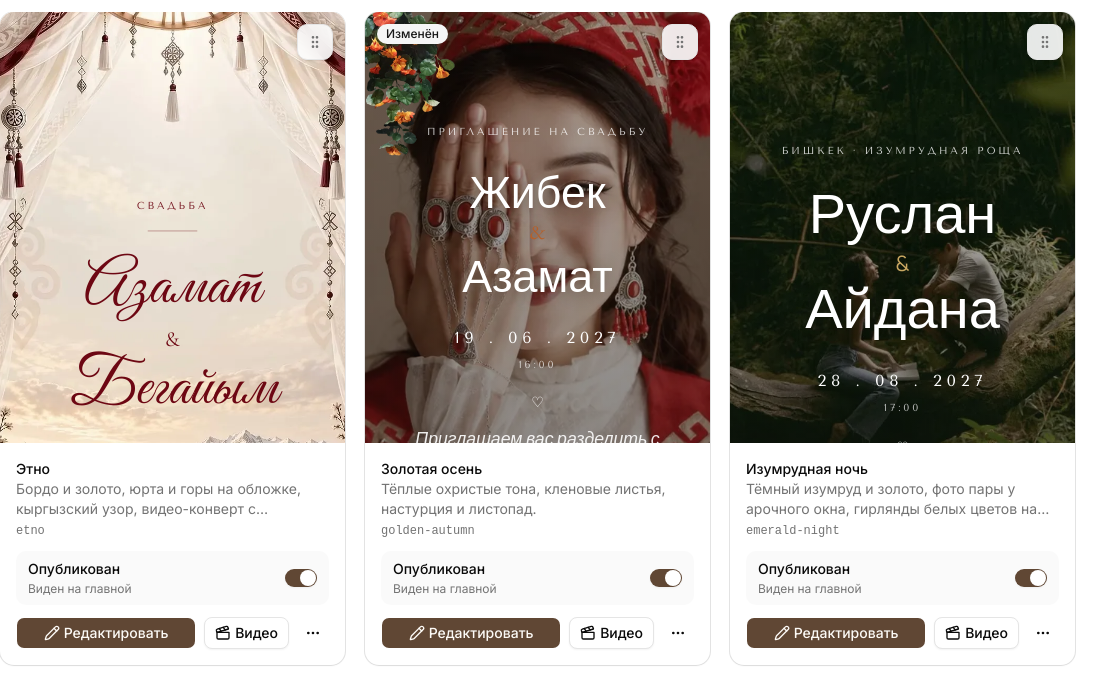
Test: админка: шаблоны › у каждой карточки — «Редактировать» и «Записать видео» с названием; у изменённого — пометка и сброс
Click the button "Видео" below "etno": coordinates (247, 633) [204,617,289,649]
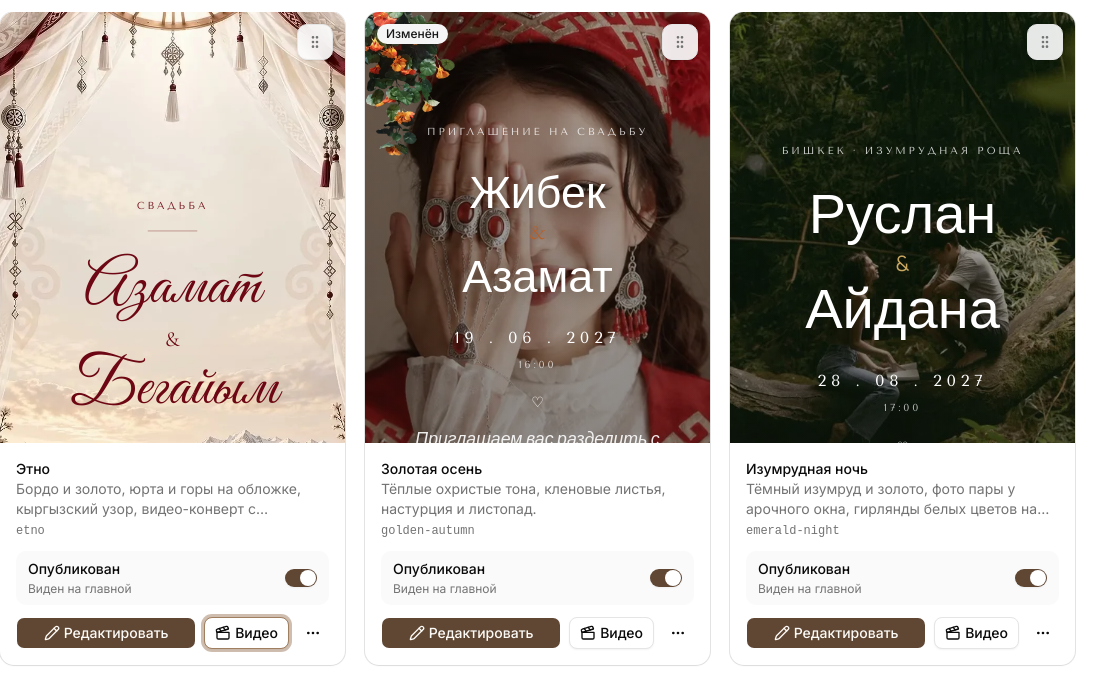
Expected: the text "Изменён" is shown once, [377,24,448,44]
Click the button named "Ещё действия с шаблоном «Золотая осень»": coordinates (678, 633) [662,617,694,649]
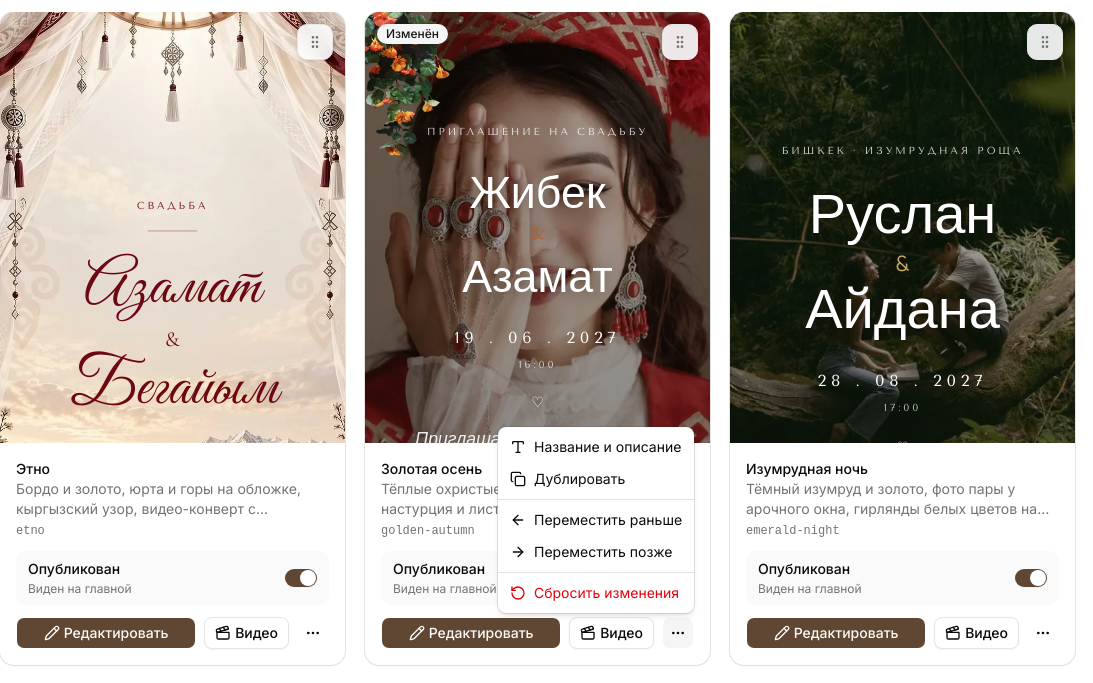
Expected: the menu item "Сбросить изменения" is shown, [510,584,679,601]
